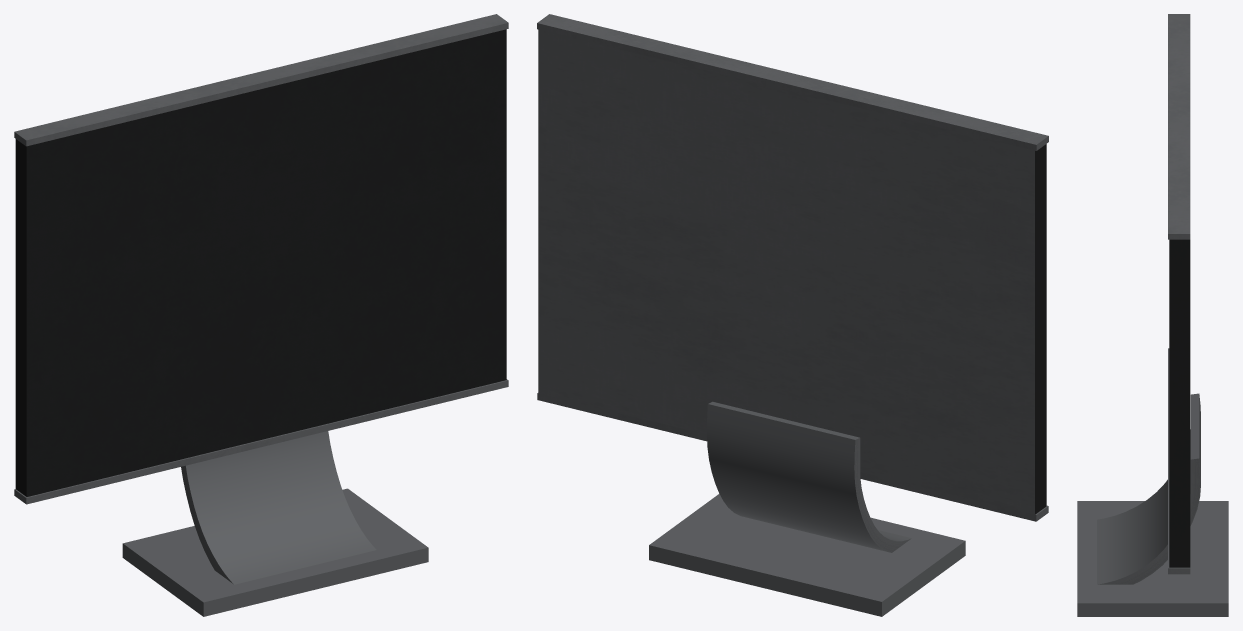
The model's file is Comp_monitor.fbx.
The picture shows the model from 3 angles, left to right: view 1: azimuth 30°, elevation 25°; view 2: azimuth 150°, elevation 25°; view 3: azimuth 270°, elevation 25°; orthographic projection. The views are drawn at different scales.
Parts seen in each view (by area): view 1: curve3; view 2: curve3; view 3: curve3.
Part boxes in pixels (x1,y1,x2,y2): curve3: [14, 14, 508, 616]; curve3: [537, 14, 1048, 616]; curve3: [1077, 14, 1228, 616].
Size of the model in its own units: 0.6031 by 0.5644 by 0.1749.
